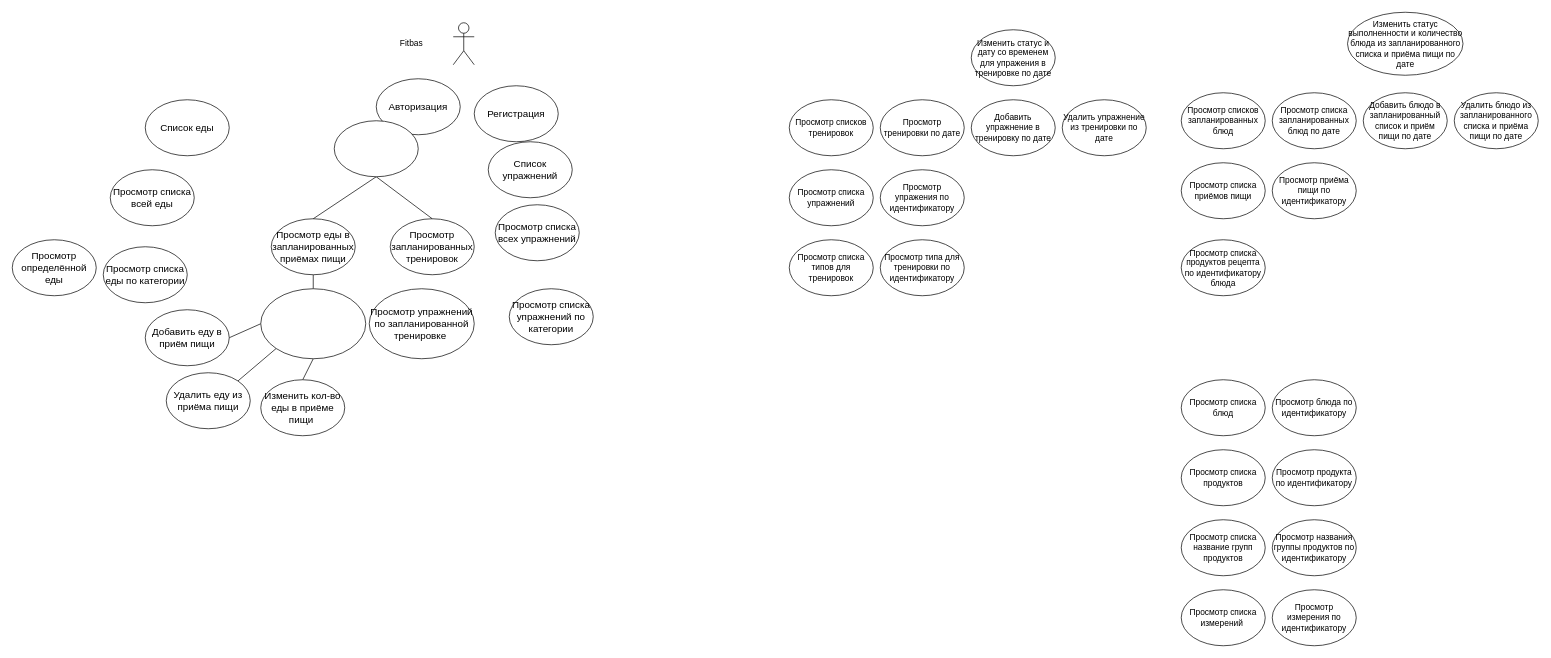
This 1551x658 diagram has some shape labels left out. The shapes that lost their labels are listed below. From the top down, each one's box as (x1, y1, x2, y2) in pixels, then its label:
(453, 22, 474, 65): Пользователь
(334, 120, 418, 177): Расписание
(260, 288, 366, 359): Просмотр еды по запланированному приёму пищи
